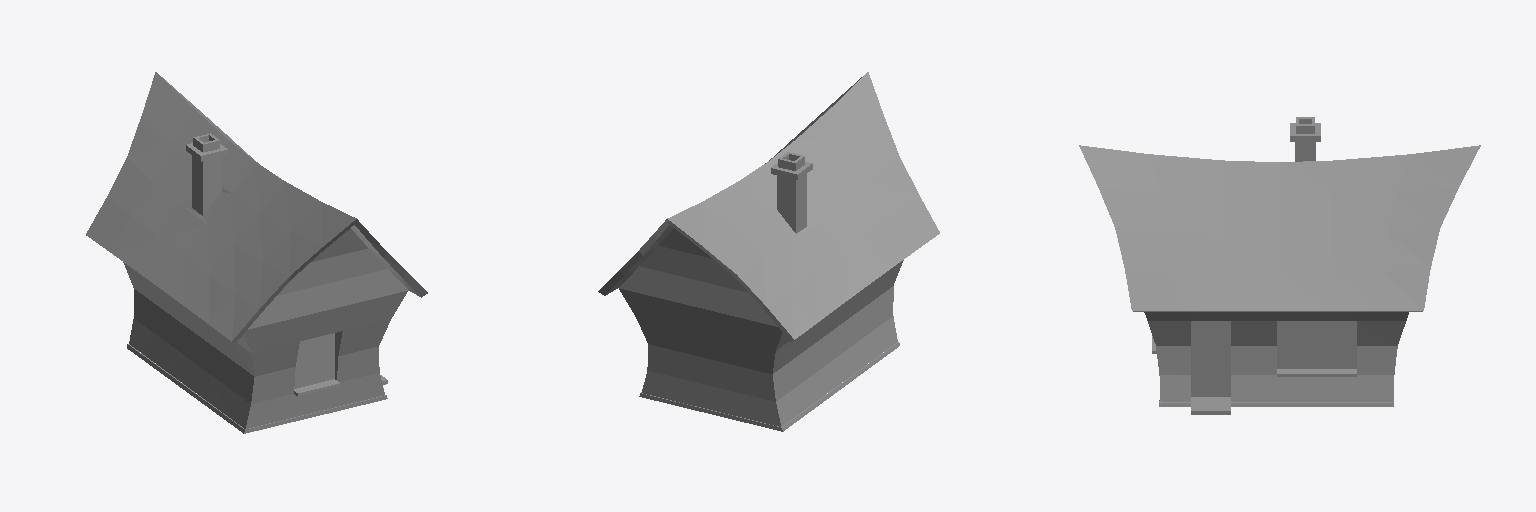
The model's file is House.obj.
The picture shows the model from 3 angles: view 1: azimuth 30°, elevation 25°; view 2: azimuth 150°, elevation 25°; view 3: azimuth 270°, elevation 25°; orthographic projection.
Parts seen in each view (by area): view 1: House_Cube; view 2: House_Cube; view 3: House_Cube.
Part boxes in pixels (bbox=[...]): House_Cube: bbox=[86, 72, 427, 433]; House_Cube: bbox=[598, 72, 939, 431]; House_Cube: bbox=[1079, 117, 1480, 414].
Bounding box in the file's own units: 4.35 × 4.92 × 7.69.